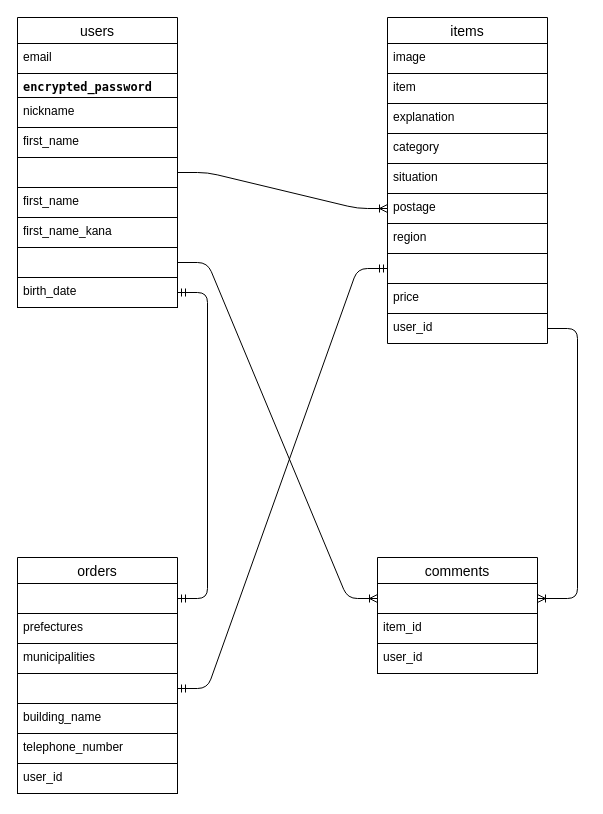
Image size: 603x814. Some labels were removed from this diagram. The shapes that lost their labels are listed below. From the top down, each one's centre as x and y in pixels, then its label:
the point at 97,172: last_name
the point at 97,262: last_name_kana
the point at 467,268: shipping_day
the point at 97,598: post_code
the point at 457,598: content
the point at 97,688: street_address
